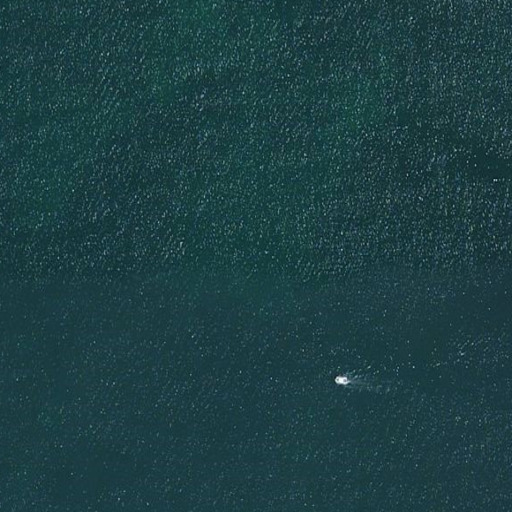ship: (332, 374, 352, 387)
